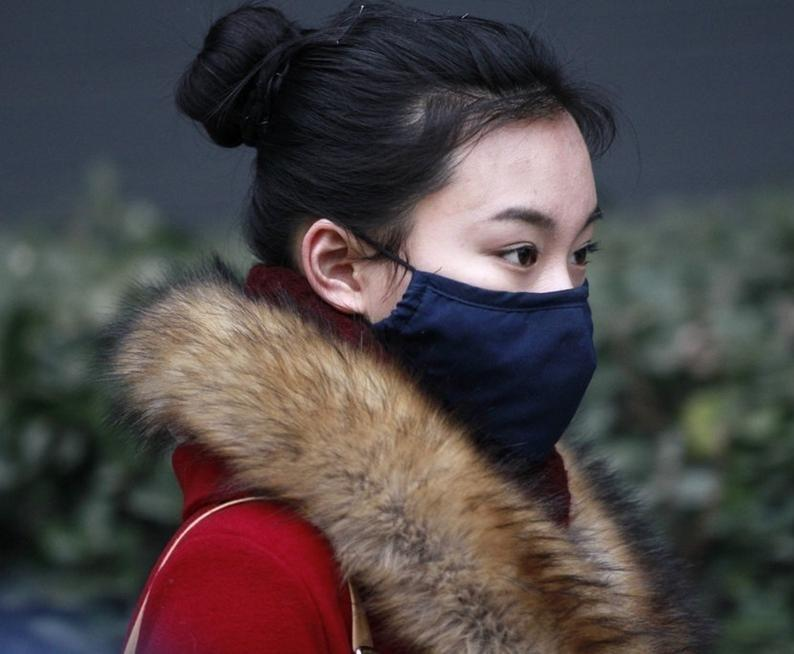OK: (395, 173, 606, 441)
